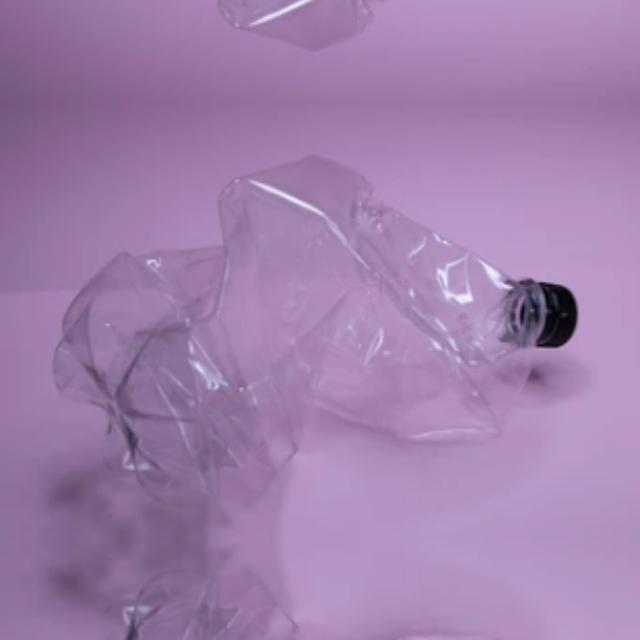Plastic: (59, 147, 601, 528), (59, 547, 601, 640), (59, 0, 601, 56)
